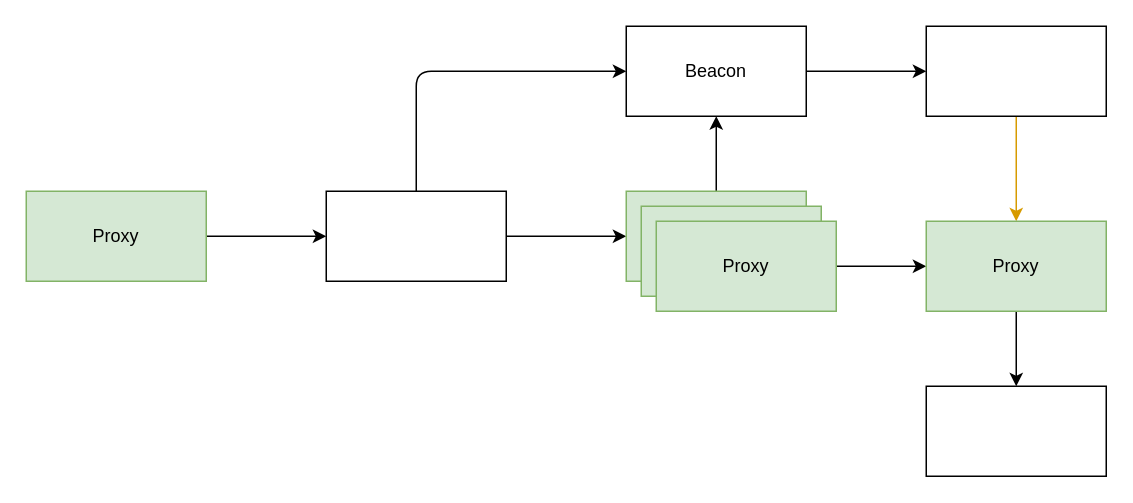
Some shapes in this 1133 by 503 pixel diagram are drawn without their labels. Each missing label, with the centre of its shape:
"AllowancesStore" belongs at [1015,430].
"MintableRewards" belongs at [1015,70].
"MintableRewards Factory" belongs at [415,235].
